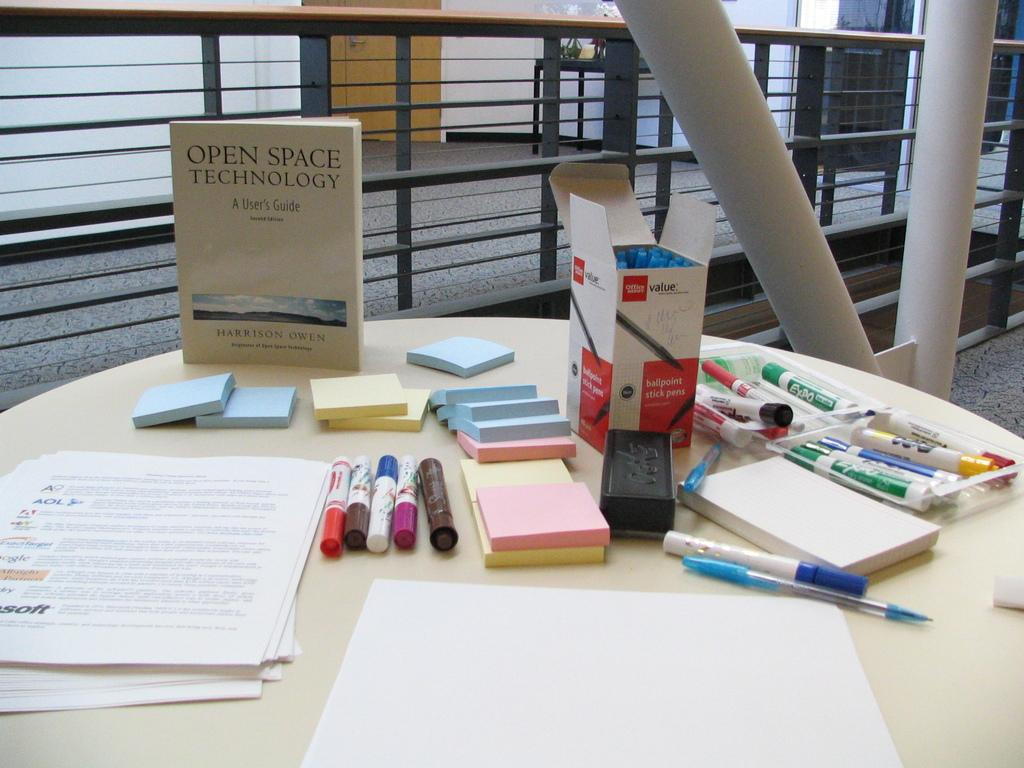pen: (781, 406, 1017, 516), (687, 348, 863, 447), (684, 553, 932, 619), (659, 527, 870, 604), (318, 455, 463, 561)
